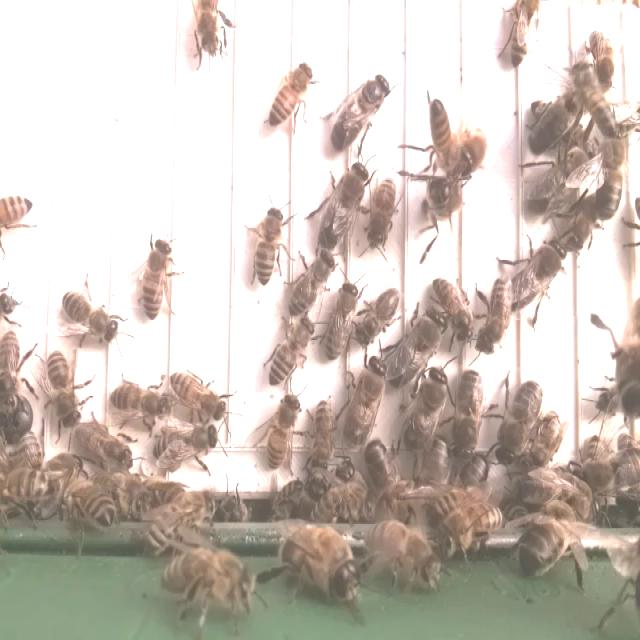Drone: (326, 68, 394, 155), (314, 159, 372, 255), (387, 304, 448, 392), (506, 234, 570, 314), (338, 354, 389, 450), (494, 376, 544, 468), (402, 364, 450, 457), (590, 115, 629, 225), (449, 364, 486, 463)
Worker: (72, 417, 136, 476), (265, 62, 317, 134), (318, 279, 362, 364), (265, 316, 315, 388), (288, 247, 337, 320), (44, 346, 85, 432), (474, 272, 514, 360), (167, 369, 230, 424), (355, 282, 404, 351), (149, 421, 222, 467), (61, 289, 122, 344), (432, 275, 478, 345), (264, 390, 300, 475), (141, 232, 174, 324), (106, 378, 169, 426), (251, 203, 286, 288), (306, 395, 336, 481), (508, 0, 542, 74), (365, 174, 398, 248), (0, 324, 22, 406)
